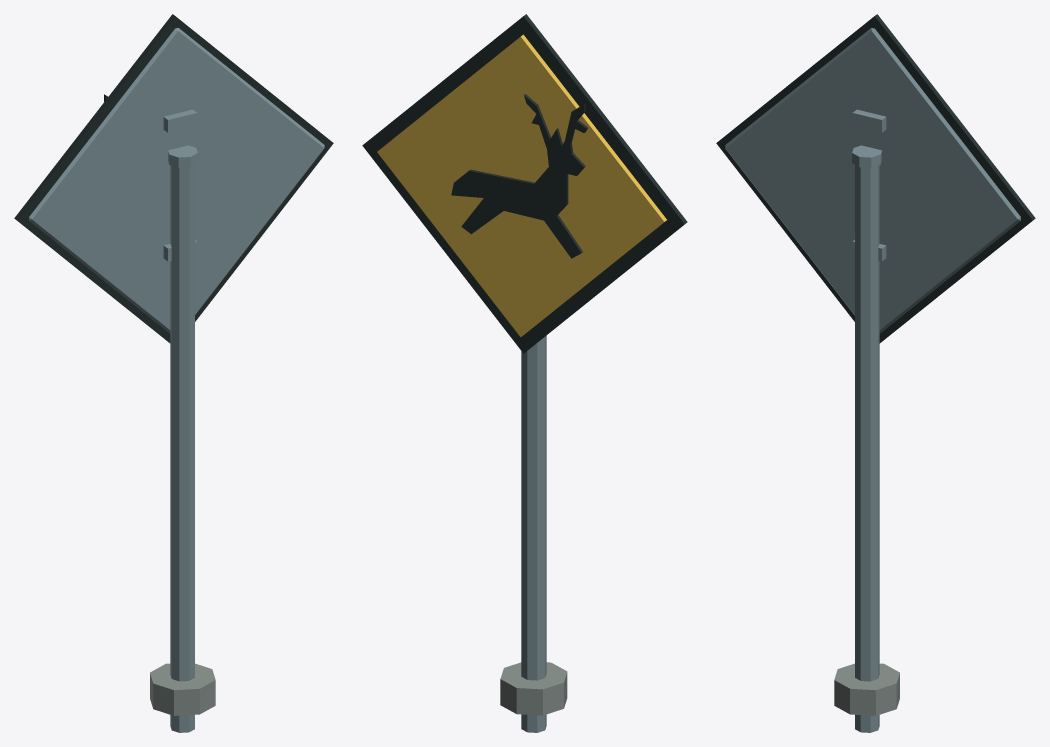
The model's file is sm_env_sign_animal_crossing.glb.
3 renders of one model, left to right at view 1: azimuth 30°, elevation 25°; view 2: azimuth 150°, elevation 25°; view 3: azimuth 330°, elevation 25°, orthographic.
Parts seen in each view (by area): view 1: SignBack, SignPost, SignBorder, PostBase, SignBracket.001, PostCap; view 2: SignPanel, SignBorder, SignPost, Deer, PostBase; view 3: SignBack, SignPost, SignBorder, PostBase, SignBracket.001, PostCap.
Part boxes in pixels (x1,y1,x2,y2): SignBack: (29,28,324,333); SignPost: (170,165,194,732); SignBorder: (14,14,333,343); PostBase: (150,663,215,715); SignBracket.001: (163,109,197,132); PostCap: (168,145,197,167); SignPanel: (377,34,666,337); SignBorder: (362,14,687,353); SignPost: (521,335,546,732); Deer: (451,128,585,258); PostBase: (500,662,567,715); SignBack: (725,28,1020,333); SignPost: (855,165,879,732); SignBorder: (716,14,1035,343); PostBase: (834,663,899,715); SignBracket.001: (852,109,886,132); PostCap: (852,145,881,167).
Size of the model in its own units: 1.29 by 2.74 by 0.24.
